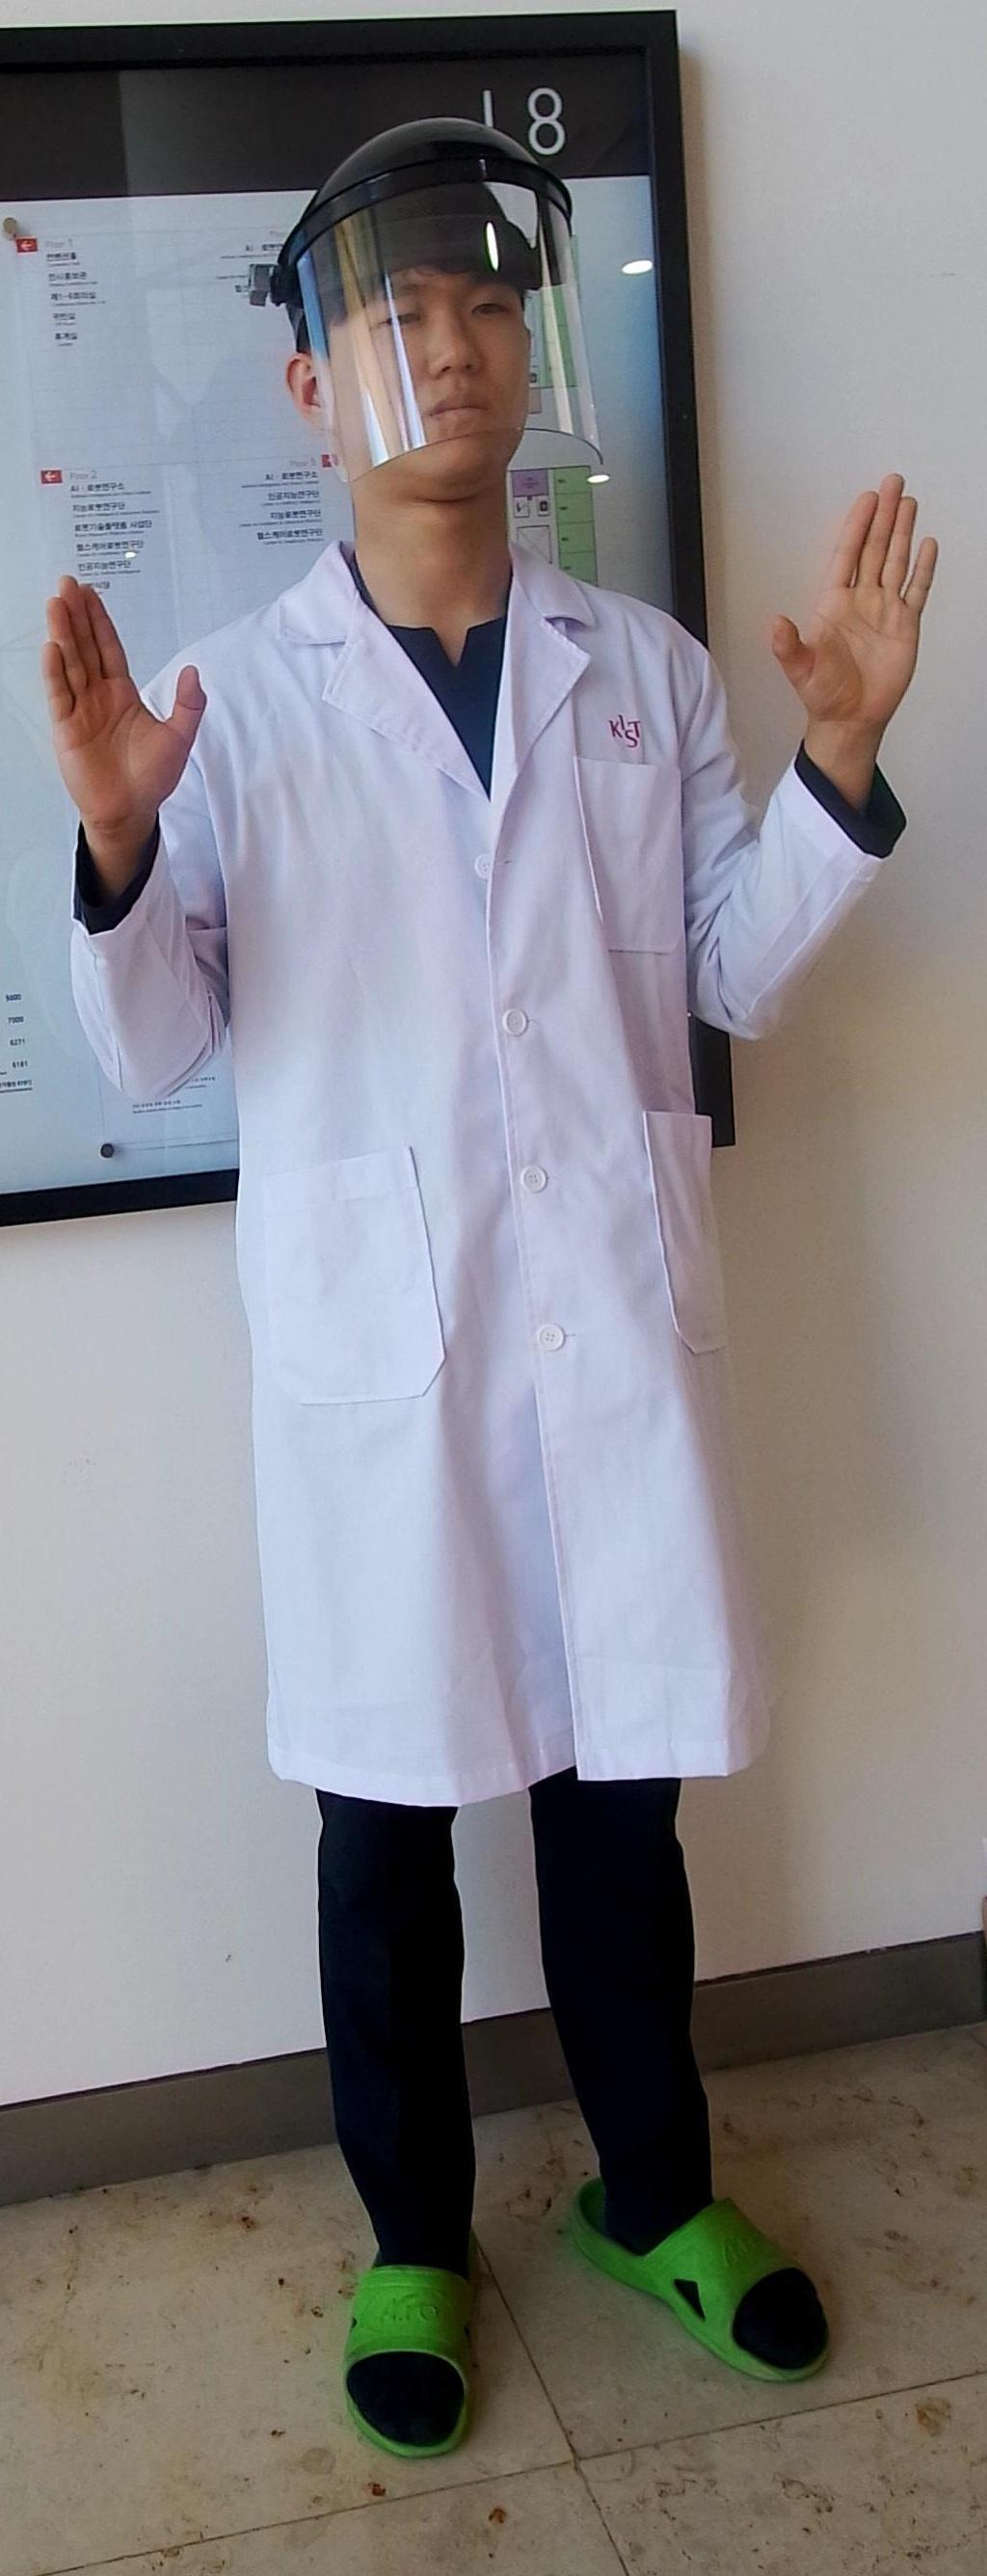lab_coat: (197, 628, 739, 1781)
